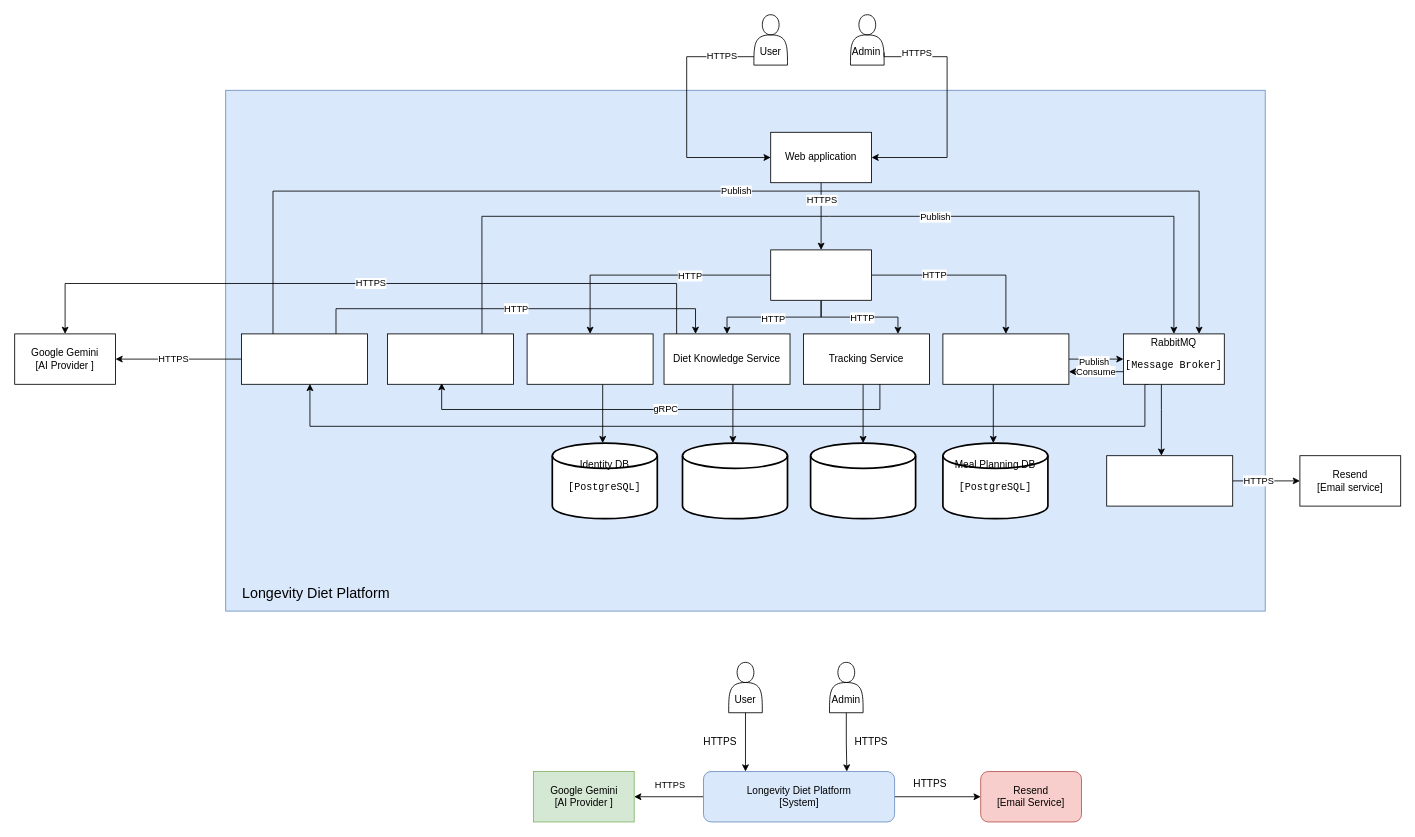
Image size: 1415x837. Some labels were removed from this diagram. Each missing label, with the centre of its shape:
"API Gateway" belongs at point 821,274.
"Diet Knowledge DB [PostgreSQL]" belongs at point 734,480.
"Identity Service" belongs at point 589,358.
"Meal Planning Service" belongs at point 1005,358.
"Notification Service" belongs at point 450,358.
"NotificationWorker [.NET Worker Service]" belongs at point 1169,480.
"Recommendation Service" belongs at point 304,358.
"Tracking DB [PostgreSQL]" belongs at point 862,480.
